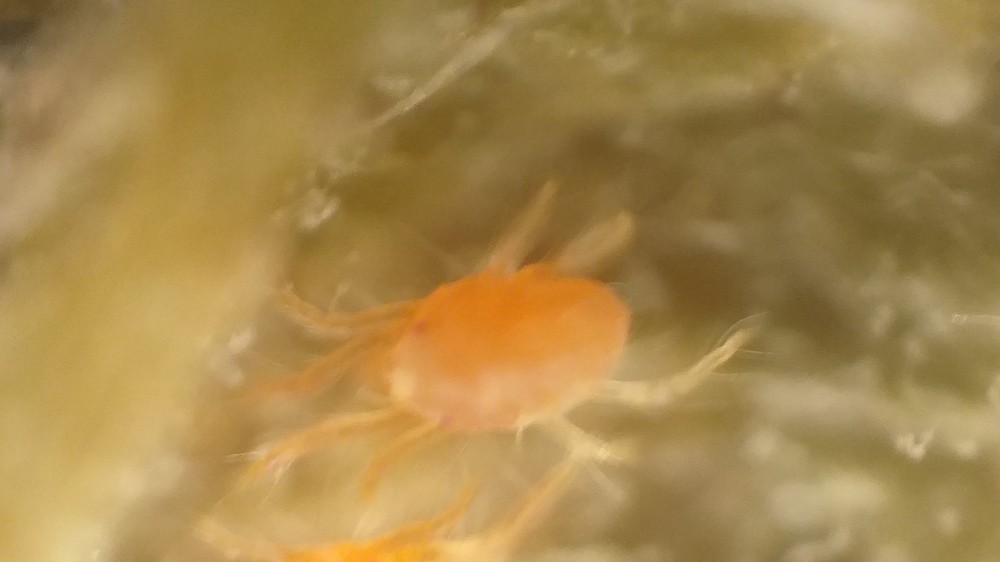Aracnido Rojo: (246, 184, 754, 540)
